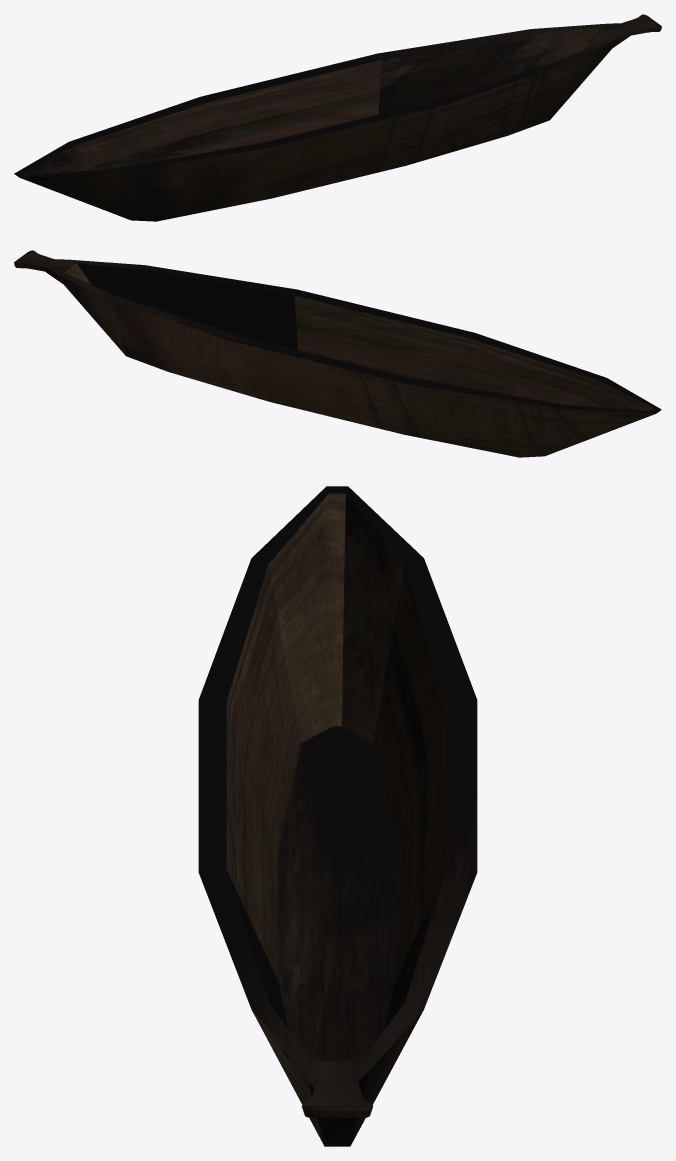
Rendered from kanu.glb.
3 renders of one model, top to bottom at view 1: azimuth 30°, elevation 25°; view 2: azimuth 150°, elevation 25°; view 3: azimuth 270°, elevation 25°, orthographic. The views are drawn at different scales.
Visible parts, largest first — view 1: Cube; view 2: Cube; view 3: Cube.
Part boxes in pixels (x1,y1,x2,y2): Cube: (14, 14, 661, 221); Cube: (14, 250, 661, 457); Cube: (198, 486, 477, 1146).
Bounding box in the file's own units: 18.66 × 2 × 3.53.
Materials: 1 (1 with a texture image).
